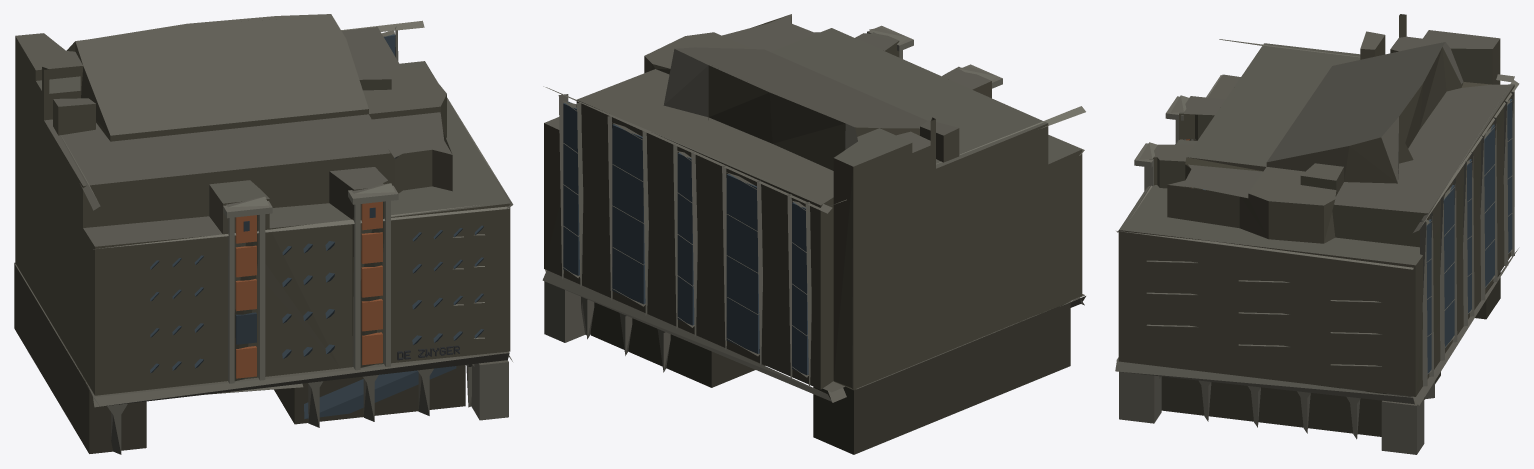
The model's file is pakhuis-de-zwijger.lod1.glb.
3 views of the same model, side by side, from view 1: azimuth 30°, elevation 25°; view 2: azimuth 150°, elevation 25°; view 3: azimuth 270°, elevation 25° (orthographic). The views are drawn at different scales.
Visible parts, largest first — view 1: pakhuis-de-zwijger; view 2: pakhuis-de-zwijger; view 3: pakhuis-de-zwijger.
Part boxes in pixels (left/top/right/bottom): pakhuis-de-zwijger: left=14, top=14, right=513, bottom=454; pakhuis-de-zwijger: left=542, top=14, right=1085, bottom=454; pakhuis-de-zwijger: left=1115, top=14, right=1519, bottom=454.
Bounding box in the file's own units: 42.36 × 28 × 37.68.
